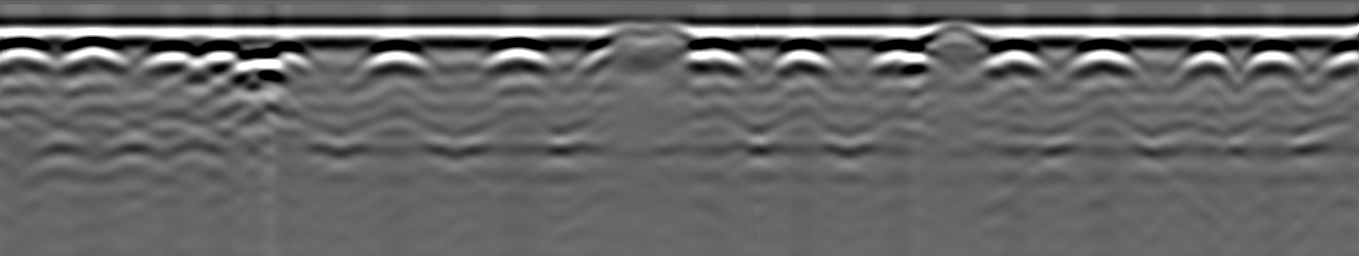pipe: (600, 24, 690, 48), (916, 23, 988, 46)
steel: (478, 40, 558, 79), (1173, 43, 1236, 87), (1070, 46, 1139, 83), (357, 46, 434, 76), (684, 47, 746, 83), (1243, 47, 1304, 83), (775, 49, 836, 84), (865, 51, 935, 79), (982, 49, 1043, 80), (63, 40, 126, 70), (245, 46, 304, 75), (1, 39, 52, 72), (140, 43, 190, 75), (203, 43, 233, 75)
